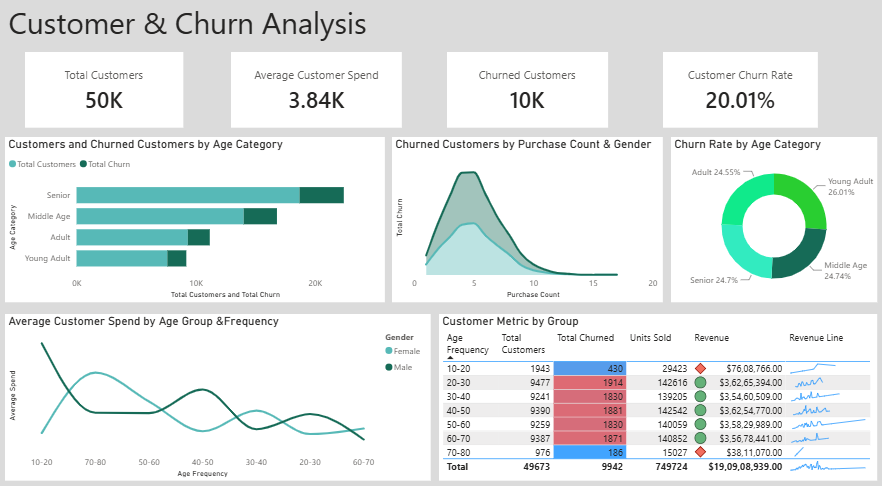

The dashboard page shown, as its layout file describes it:
{"tool":"powerbi","page":{"name":"Customer & Churn","canvas":[1280,720],"ordinal":1},"visuals":[{"type":"stackedAreaChart","title":"Churned Customers by Purchase Count & Gender","fields":{"Category":["customer_table.purchase_count"],"Series":["customer_table.gender"],"Y":["_Measures.Total Churn"]},"box":[571.7,208.8,390.2,237.6],"z":0},{"type":"cardVisual","fields":{"Data":["_Measures.Total Customers"]},"box":[43.2,86.4,227.5,109.4],"z":1000},{"type":"cardVisual","fields":{"Data":["_Measures.Total Churn"]},"box":[650.9,86.4,231.8,109.4],"z":2000},{"type":"cardVisual","fields":{"Data":["_Measures.Churn Rate"]},"box":[961.9,86.4,223.2,109.4],"z":3000},{"type":"cardVisual","fields":{"Data":["_Measures.Average Customer Spend"]},"box":[339.8,86.4,246.2,109.4],"z":4000},{"type":"barChart","title":"Customers and Churned Customers by Age Category","fields":{"Category":["customer_table.age_category"],"Y":["_Measures.Total Customers","_Measures.Total Churn"]},"box":[14.4,208.8,547.2,237.6],"z":5000},{"type":"lineChart","title":"Average Customer Spend by Age Group &Frequency","fields":{"Category":["customer_table.age_frequency"],"Series":["customer_table.gender"],"Y":["Avg(customer_table.total_spend)"]},"box":[14.4,463.7,613.4,240.5],"z":6000},{"type":"donutChart","fields":{"Category":["customer_table.age_category"],"Y":["_Measures.Churn Rate"]},"box":[973.4,208.8,296.6,237.6],"z":7000},{"type":"tableEx","title":"Customer Metric by Group","fields":{"Values":["customer_table.age_frequency","customer_table.customer id","customer_table.churn","Sum(transactions.quantity)","Sum(customer_table.total_spend)1","SparklineData(Sum(customer_table_cleaned.total_spend)_[customer_table_cleaned.total_spend])"]},"box":[639.4,463.7,630.7,240.5],"z":8000},{"type":"textbox","box":[14.4,10.1,532.8,76.3],"z":9000}]}

Visuals, with their boxes in screenshot pixels (x1, y1, x2, y2), scaled from the page's 1280x720 canvas onto the 882x486 screenshot:
"Churned Customers by Purchase Count & Gender" stackedAreaChart: [394,141,663,301]
cardVisual - _Measures.Total Customers: [30,58,187,132]
cardVisual - _Measures.Total Churn: [449,58,608,132]
cardVisual - _Measures.Churn Rate: [663,58,817,132]
cardVisual - _Measures.Average Customer Spend: [234,58,404,132]
"Customers and Churned Customers by Age Category" barChart: [10,141,387,301]
"Average Customer Spend by Age Group &Frequency" lineChart: [10,313,433,475]
donutChart - customer_table.age_category x _Measures.Churn Rate: [671,141,875,301]
"Customer Metric by Group" tableEx: [441,313,875,475]
textbox: [10,7,377,58]
